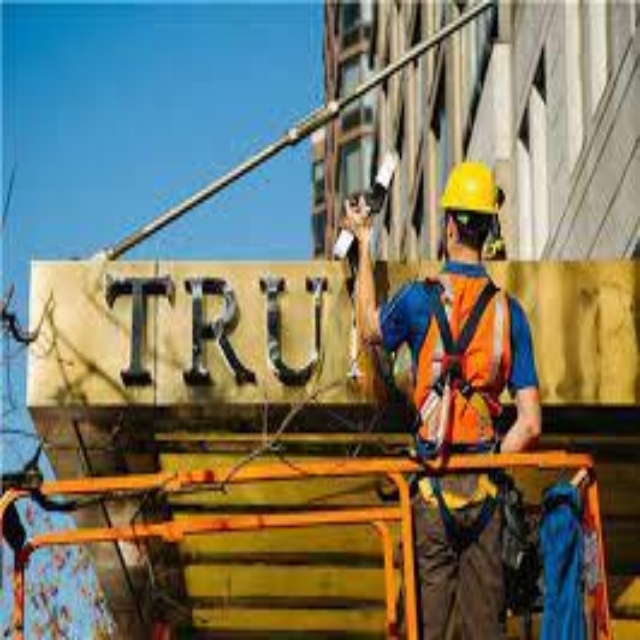Arnes_seguridad: (416, 263, 512, 557)
